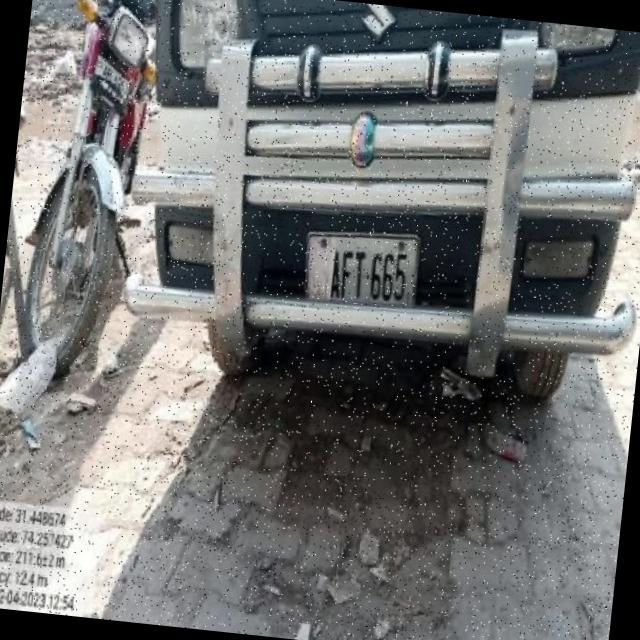LicensePlate: (298, 224, 422, 318)
